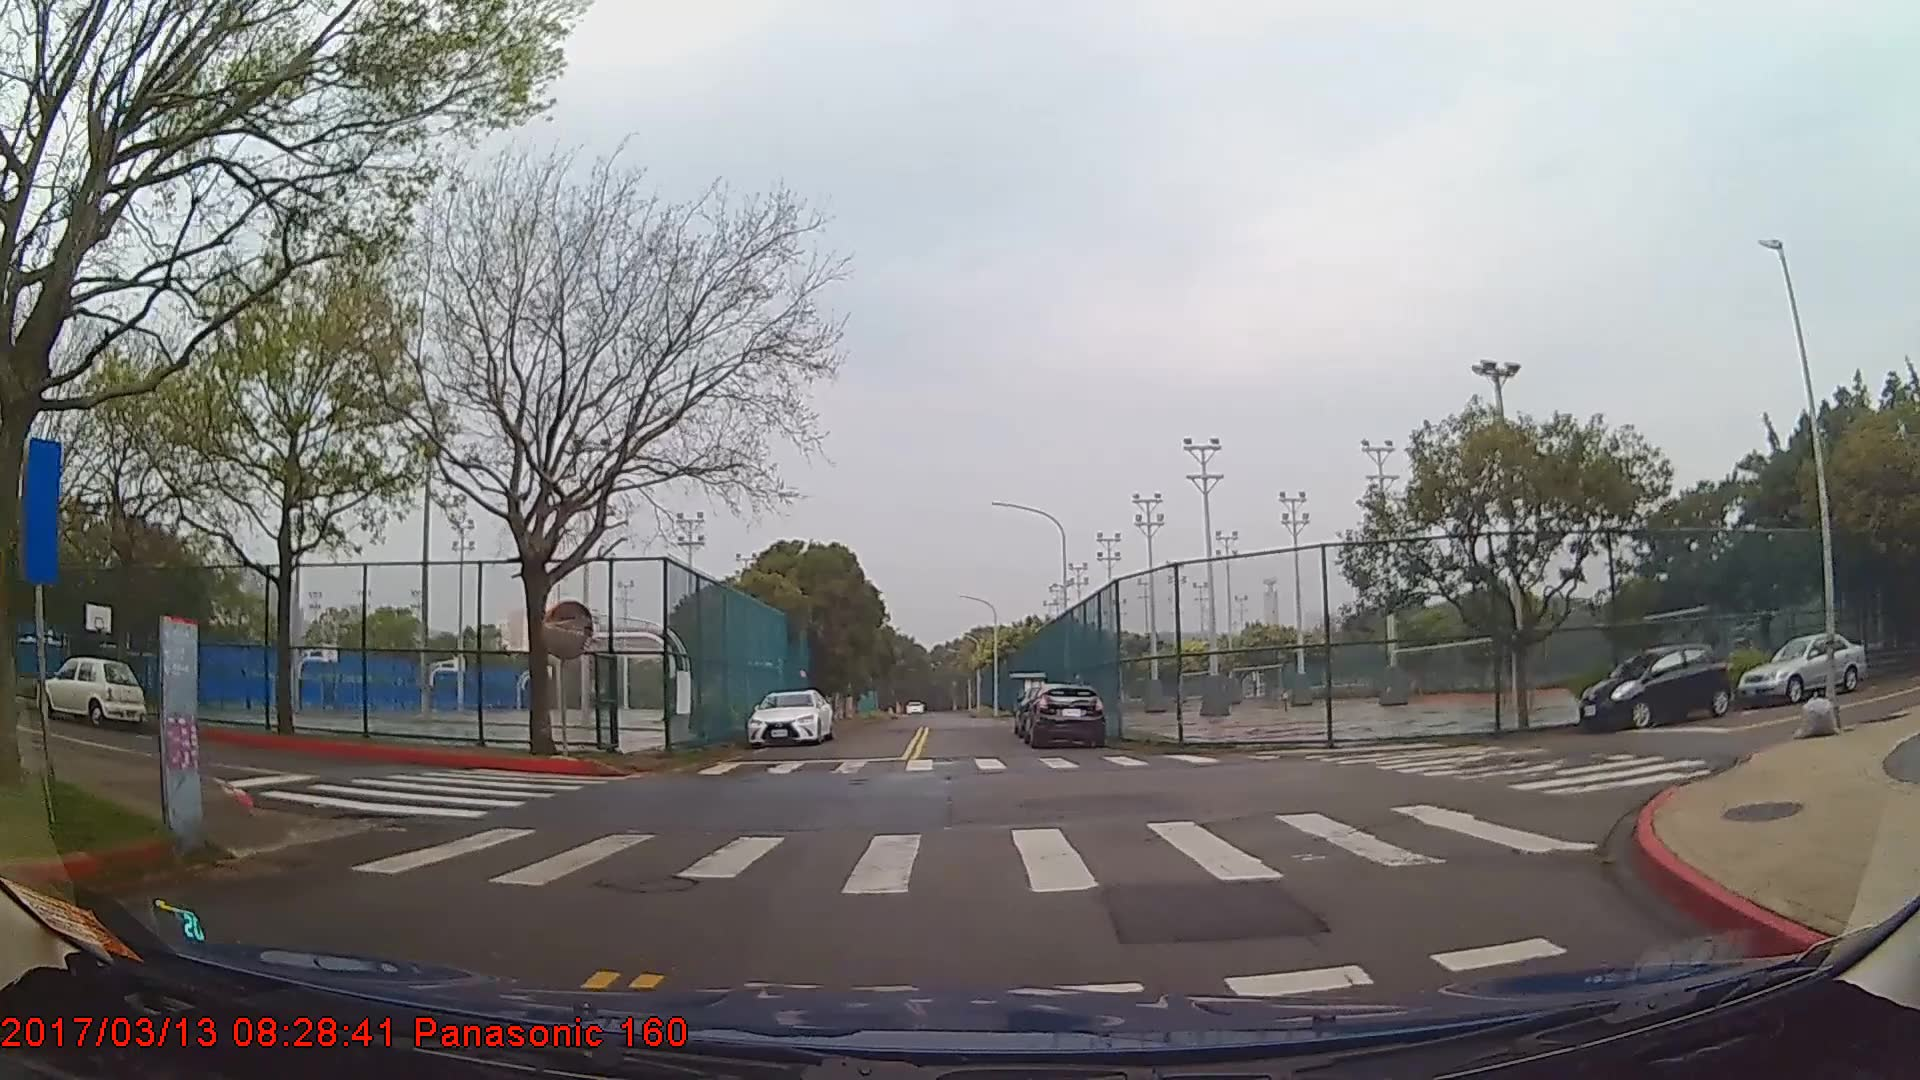vehicle: (1578, 641, 1730, 731), (1737, 632, 1869, 704), (40, 655, 142, 725), (1022, 683, 1102, 749), (746, 688, 833, 749)
